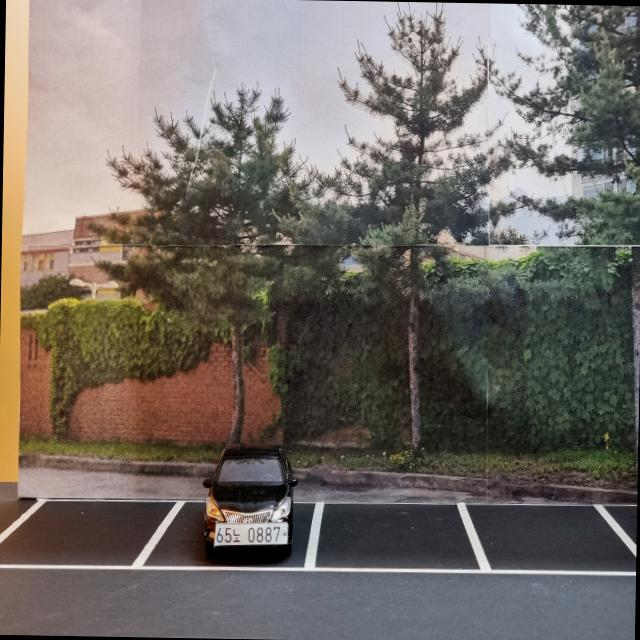car: (177, 437, 306, 572)
free: (458, 506, 634, 585), (308, 498, 472, 575), (5, 498, 174, 565)
